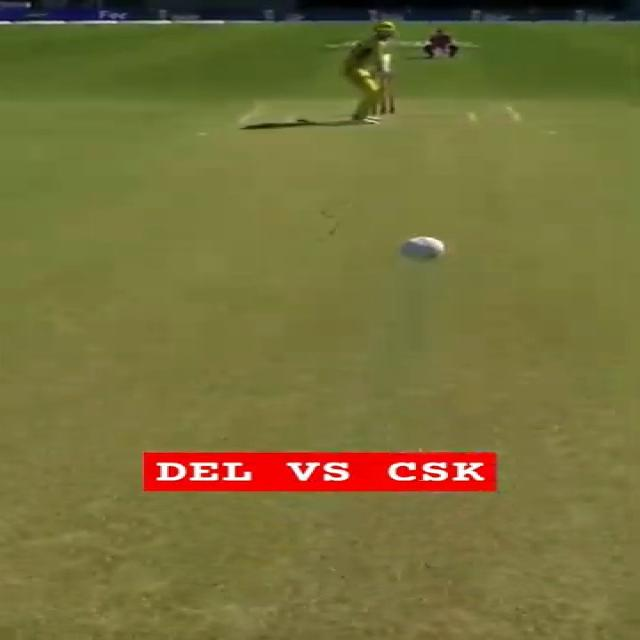ball: (396, 236, 448, 263)
